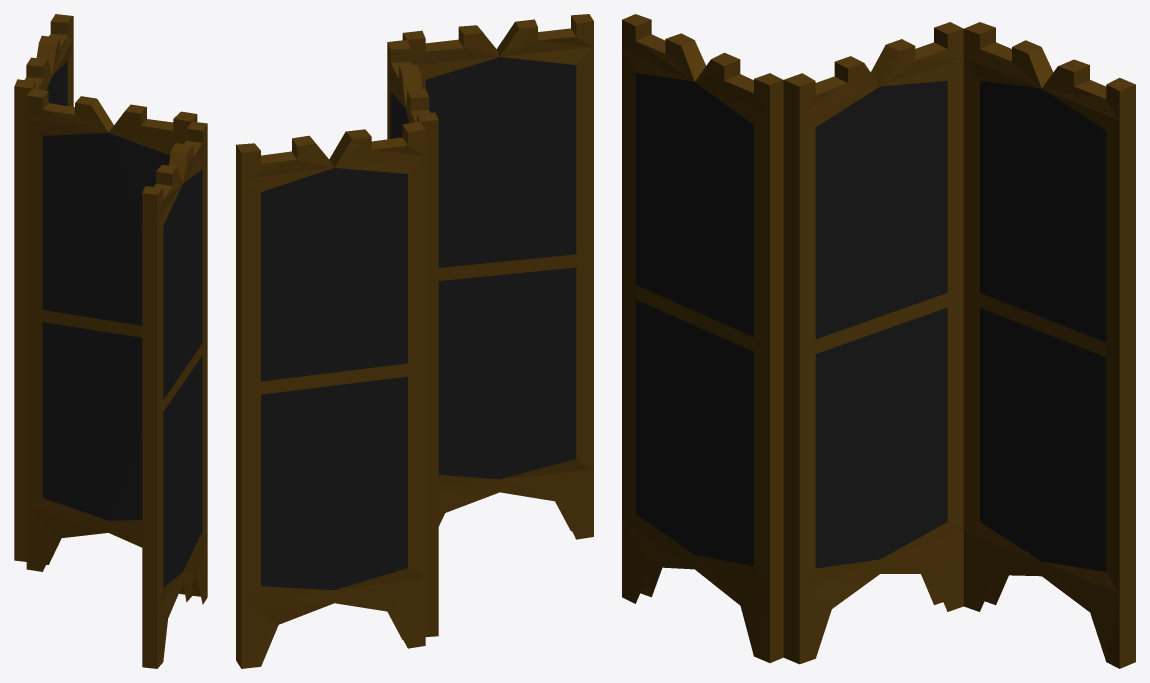
Rendered from obj_screen_0.obj.
3 views of the same model, side by side, from view 1: azimuth 30°, elevation 25°; view 2: azimuth 150°, elevation 25°; view 3: azimuth 270°, elevation 25° (orthographic). The views are drawn at different scales.
Size of the model in its own units: 0.5312 by 1.85 by 1.49.
